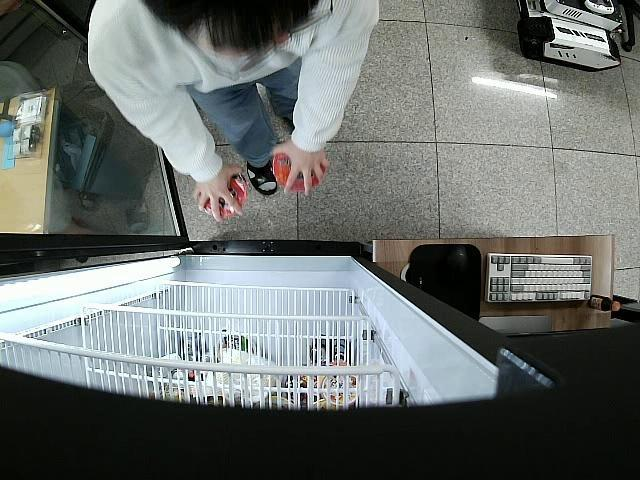01_ShinRamen_L: (274, 149, 325, 190), (202, 179, 250, 222)
